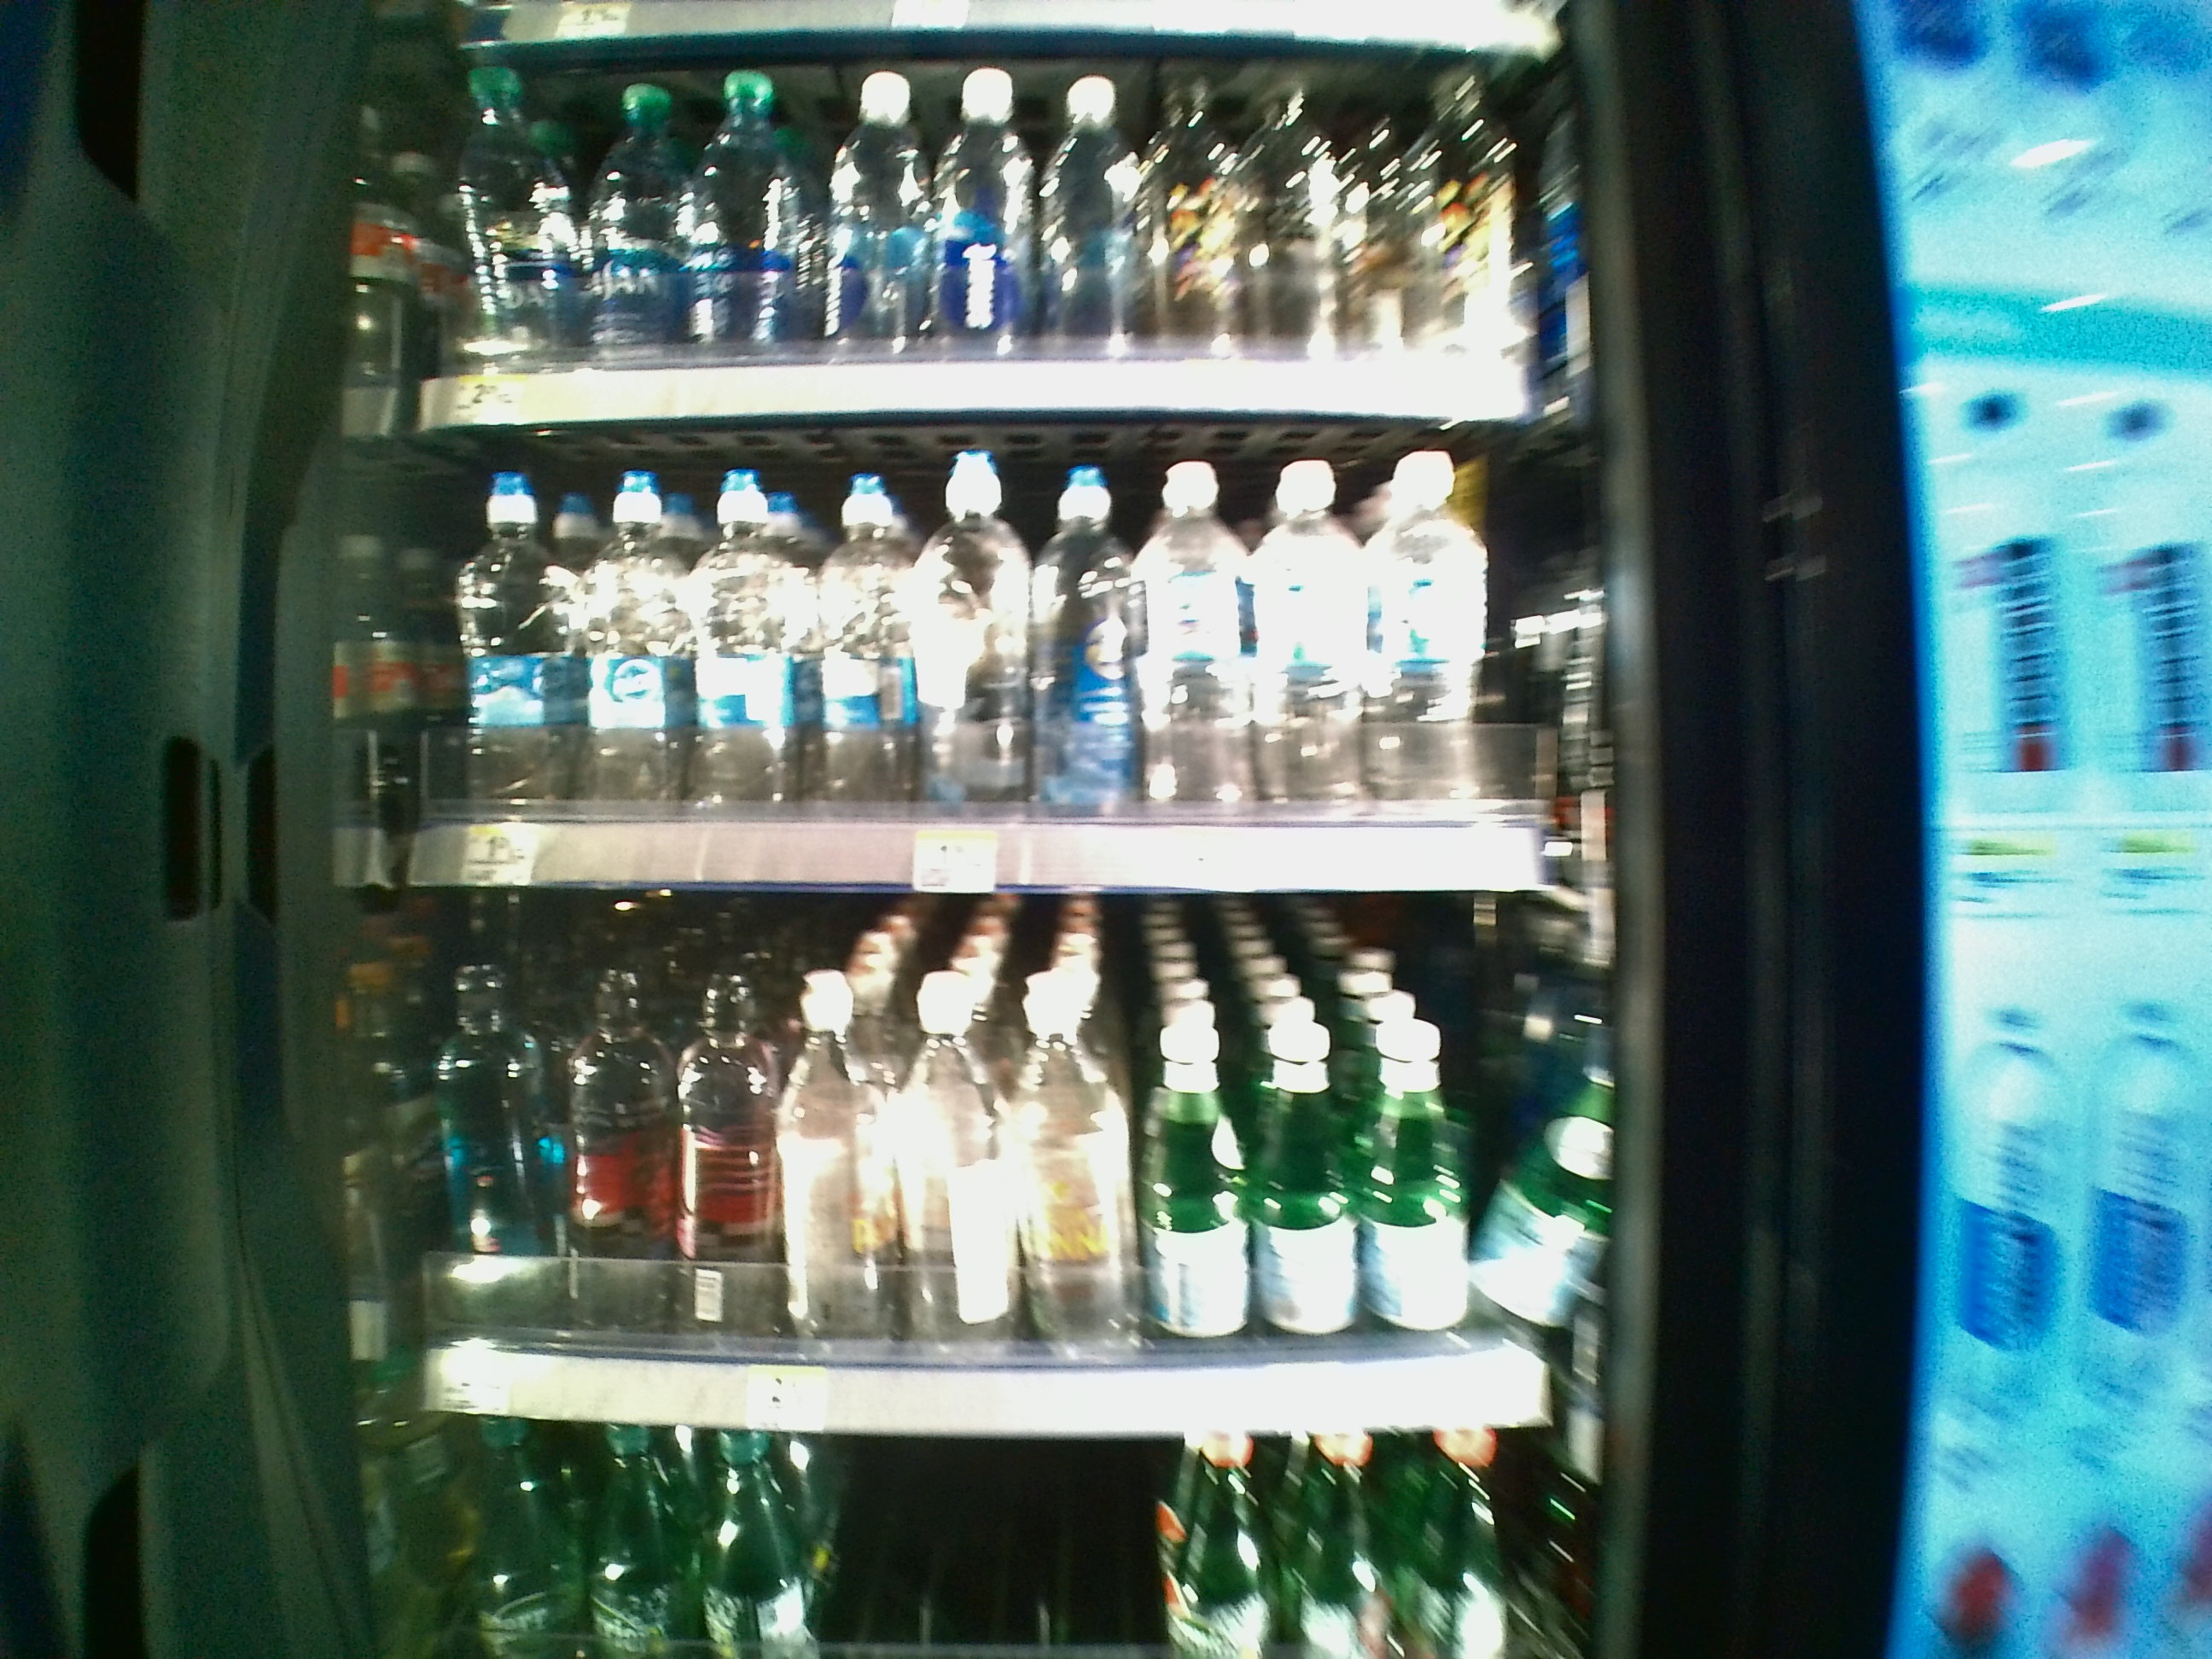shelf: (387, 892, 1611, 1441), (387, 425, 1599, 894)
